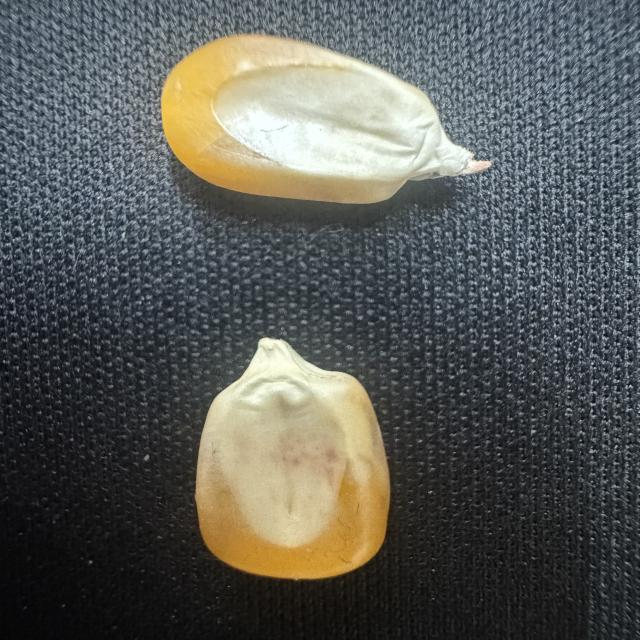Good-Seed: (156, 28, 500, 209), (190, 333, 398, 583)
